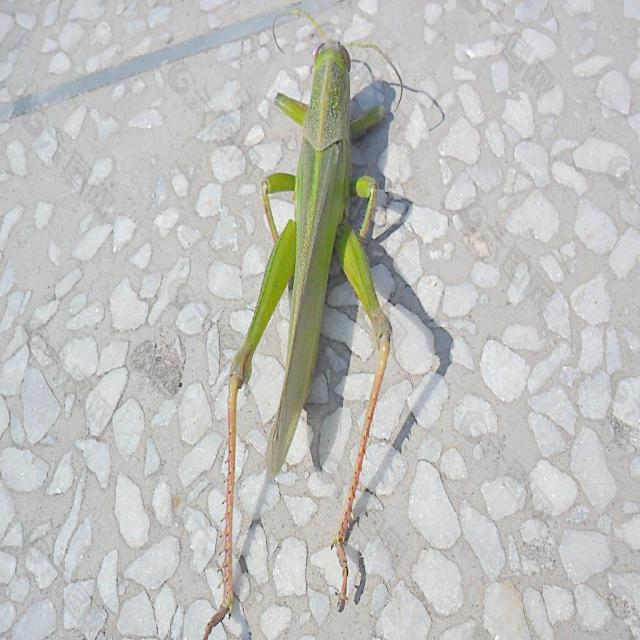ZhaMeng: (215, 13, 408, 606)
